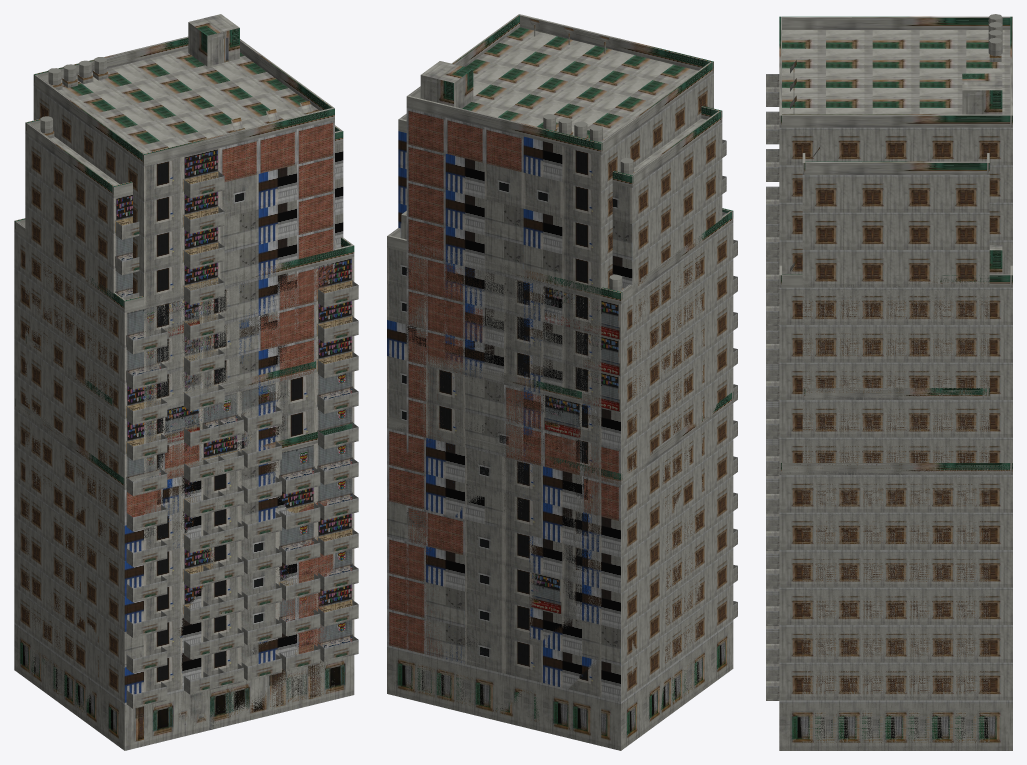
3 renders of one model, left to right at view 1: azimuth 30°, elevation 25°; view 2: azimuth 150°, elevation 25°; view 3: azimuth 270°, elevation 25°, orthographic. The views are drawn at different scales.
Parts seen in each view (by area): view 1: Plaster_5x5_f15_v0, Plaster_6x5_f6_v0, Plaster_6x5_f11_v0, Plaster_6x4_f14_v0, Plaster_6x4_f8_v1, Plaster_4x5_f8_v0; view 2: Plaster_5x5_f15_v0, Plaster_6x5_f6_v0, Plaster_6x5_f11_v0, Plaster_6x4_f14_v0, Plaster_4x5_f8_v0, Plaster_6x4_f8_v1; view 3: Plaster_6x5_f6_v0, Plaster_6x4_f14_v0, Plaster_5x5_f15_v0, Plaster_6x4_f8_v1, Plaster_6x5_f11_v0.
Boxes of the visible parts, x1,y1,x2,y2 form: Plaster_5x5_f15_v0: (33, 14, 334, 746); Plaster_6x5_f6_v0: (14, 398, 358, 750); Plaster_6x5_f11_v0: (14, 218, 358, 708); Plaster_6x4_f14_v0: (25, 116, 343, 408); Plaster_6x4_f8_v1: (25, 335, 113, 716); Plaster_4x5_f8_v0: (163, 361, 315, 688); Plaster_5x5_f15_v0: (406, 14, 713, 745); Plaster_6x5_f6_v0: (387, 392, 733, 750); Plaster_6x5_f11_v0: (387, 208, 737, 619); Plaster_6x4_f14_v0: (398, 106, 726, 404); Plaster_4x5_f8_v0: (426, 354, 581, 475); Plaster_6x4_f8_v1: (632, 339, 720, 721); Plaster_6x5_f6_v0: (766, 463, 1012, 750); Plaster_6x4_f14_v0: (802, 147, 989, 399); Plaster_5x5_f15_v0: (766, 14, 1012, 439); Plaster_6x4_f8_v1: (802, 388, 989, 750); Plaster_6x5_f11_v0: (766, 219, 1012, 475).
Bounding box in the file's own units: 21 × 53.4 × 18.5.
Materials: 1 (1 with a texture image).
